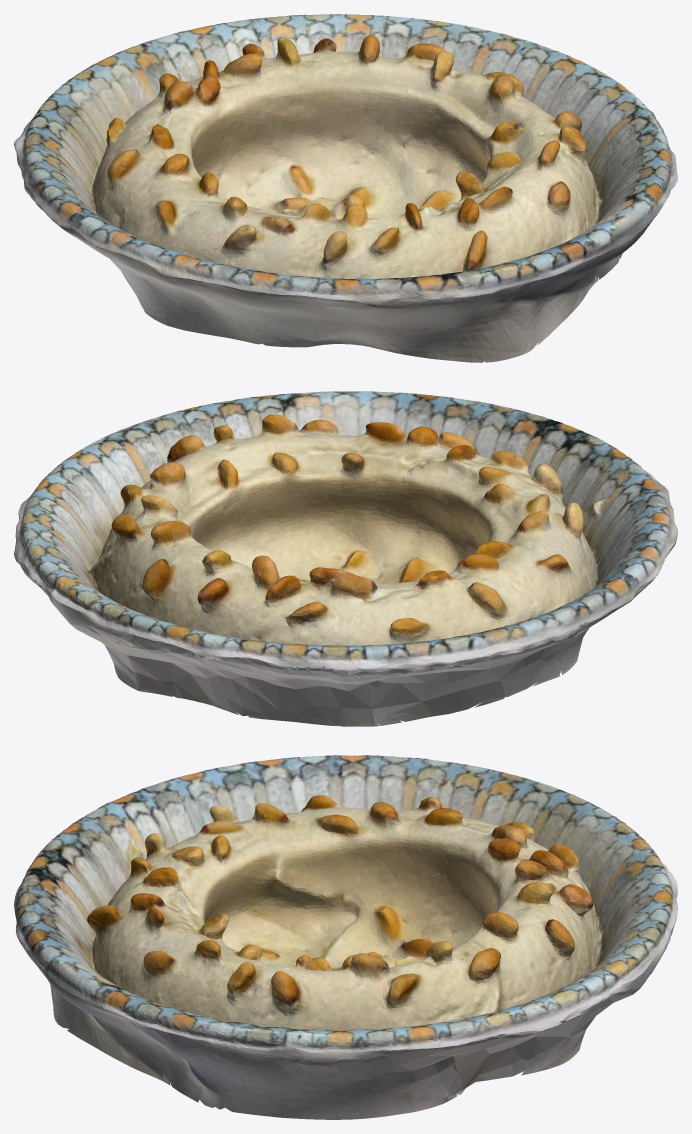
Rendered from hummus-cu-muguri-de-pin.glb.
3 views of the same model, one above another, from view 1: azimuth 30°, elevation 25°; view 2: azimuth 150°, elevation 25°; view 3: azimuth 270°, elevation 25° (orthographic).
Bounding box in the file's own units: 0.1589 × 0.0368 × 0.1577.
Materials: 1 (1 with a texture image).
